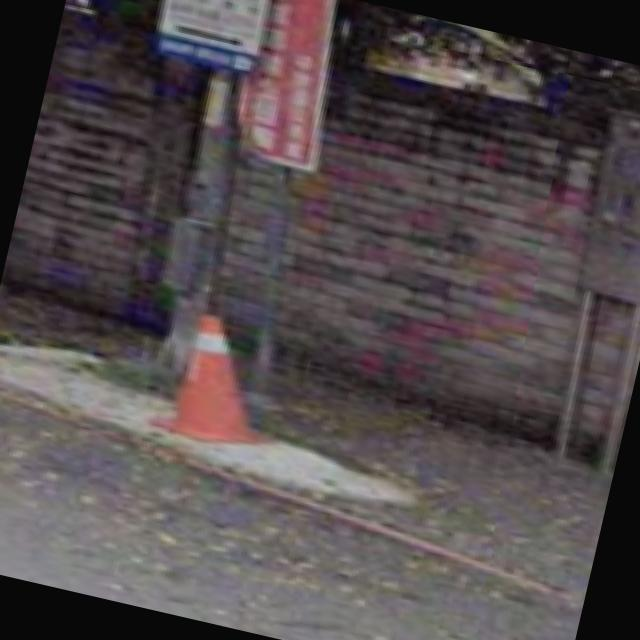cone: (151, 301, 289, 455)
